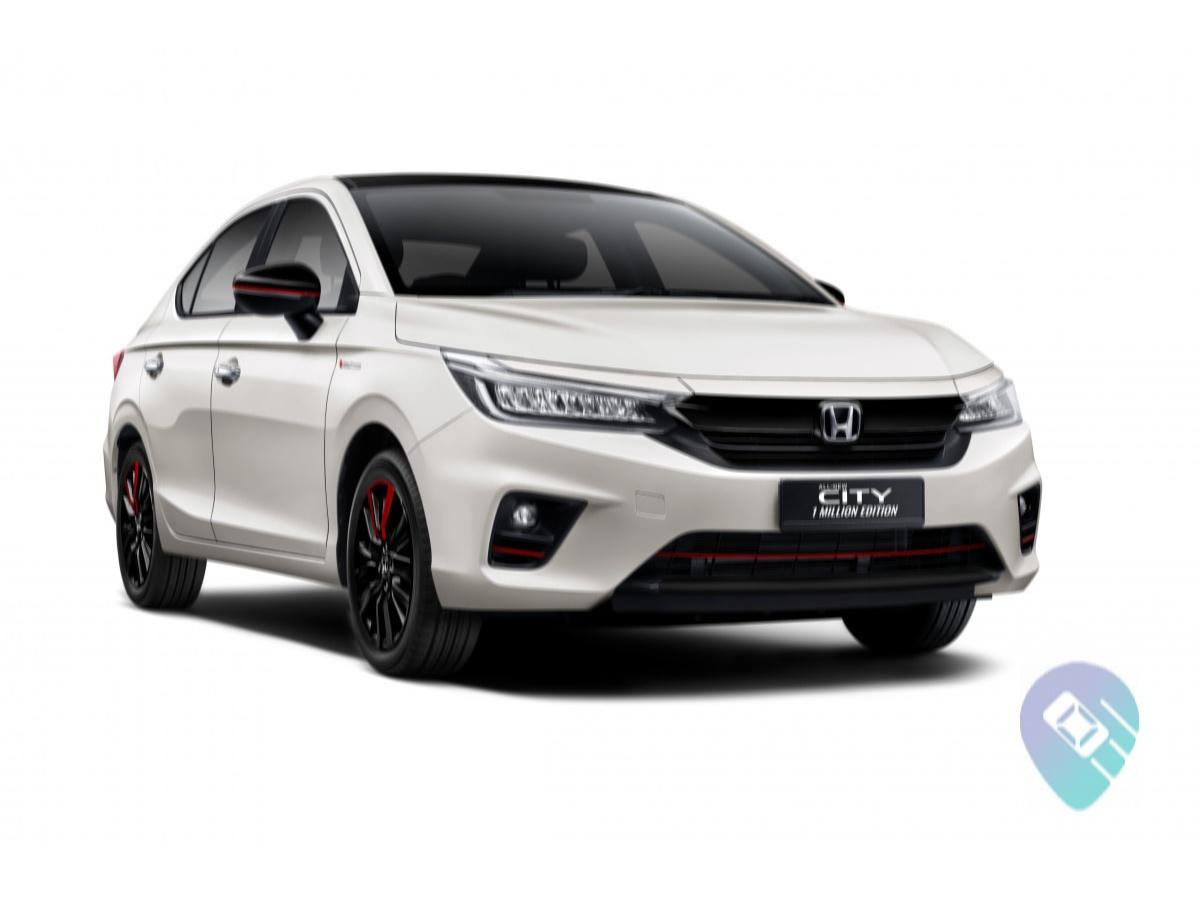Car hood: (390, 287, 998, 383)
Driver-s door - -F-R-: (210, 176, 358, 563)
Fender - -F-R-: (322, 287, 473, 590)
Fender - -R-R-: (116, 314, 174, 559)
Front bumper: (424, 420, 1046, 631)
Headlight - -L-: (936, 360, 1024, 439)
Headlight - -R-: (433, 340, 698, 446)
Passenger-s door - -R-R-: (137, 190, 242, 552)
Rear bumper: (88, 420, 130, 524)
Rear light - -R-: (102, 343, 133, 382)
Side bumper - -R-: (149, 519, 351, 596)
Side mirror - -R-: (219, 254, 332, 349), (799, 270, 855, 315)
